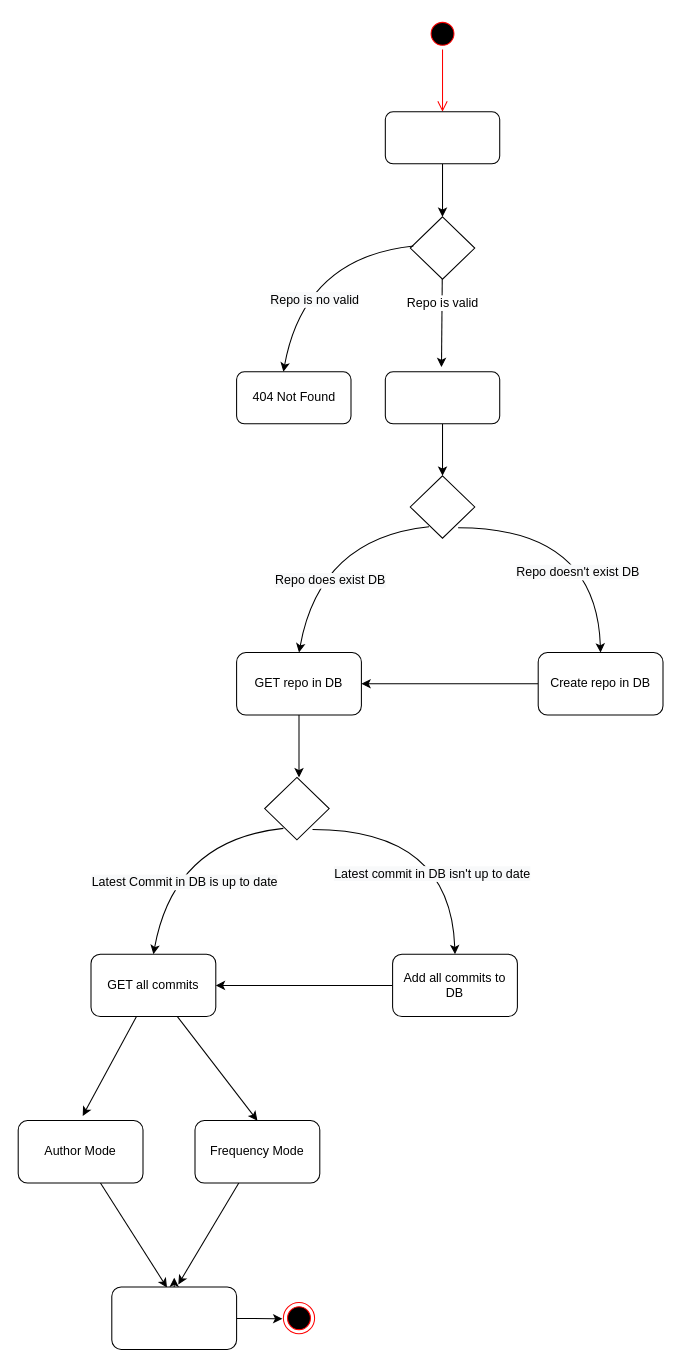
The diagram is 681 pixels wide and 1368 high, and some of its shapes have lost their labels. The shapes that lost their labels are listed below. From the top down, each one's box as (x1, y1, x2, y2) in pixels, then its label:
(384, 111, 500, 164): GET
(384, 371, 500, 424): Clone URL
(111, 1286, 237, 1349): To JSON
